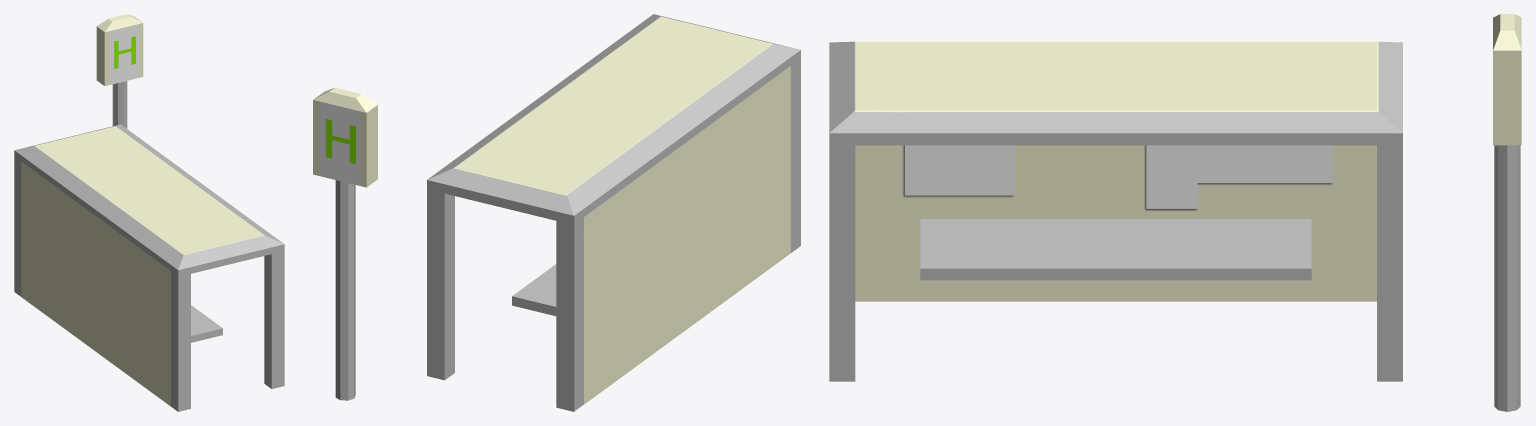
File: bus_stop.obj
The picture shows the model from 3 angles, left to right: view 1: azimuth 30°, elevation 25°; view 2: azimuth 150°, elevation 25°; view 3: azimuth 270°, elevation 25°; orthographic projection. The views are drawn at different scales.
Parts seen in each view (by area): view 1: Cylinder; view 2: Cylinder; view 3: Cylinder.
Boxes of the visible parts, x1,y1,x2,y2 form: Cylinder: (14, 14, 284, 411); Cylinder: (313, 14, 800, 411); Cylinder: (829, 14, 1521, 411).
Bounding box in the file's own units: 2.4 × 3.25 × 5.31.
